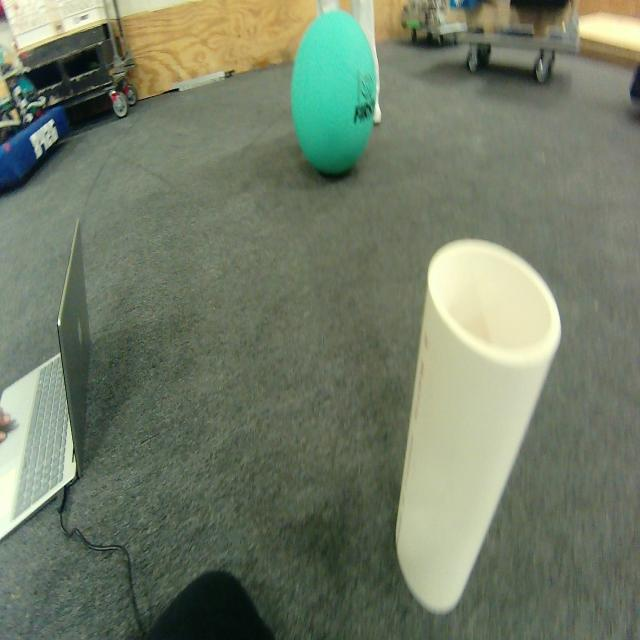algae: (291, 10, 379, 176)
coral: (396, 239, 561, 613)
